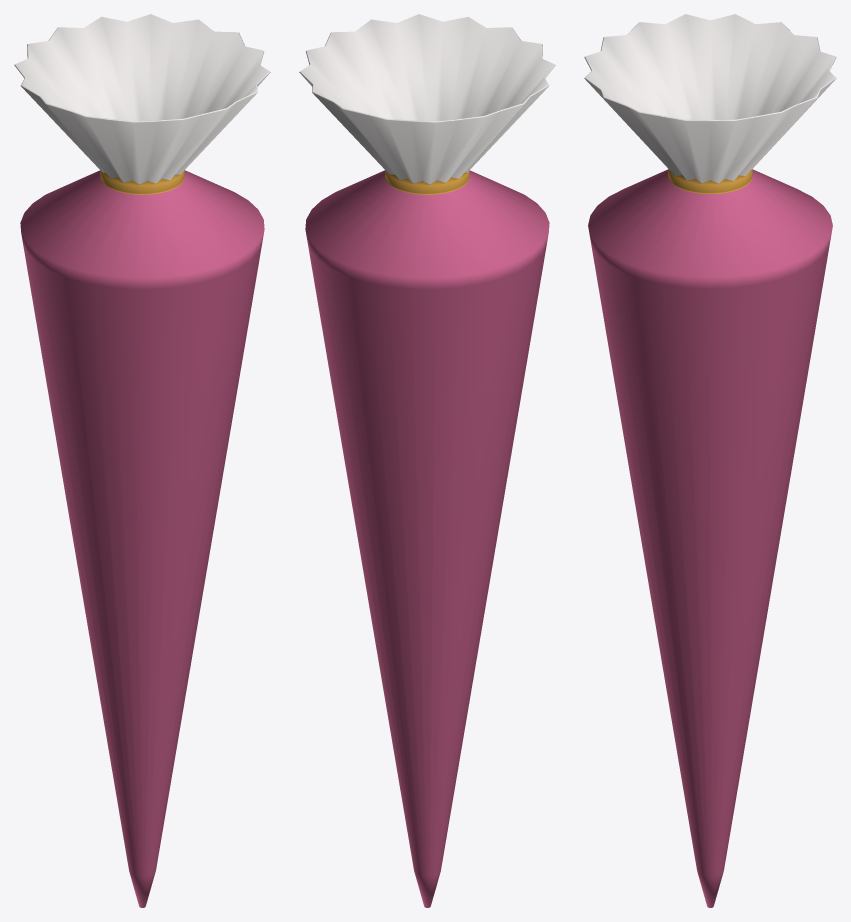
File: piping bag strawberry.fbx
3 renders of one model, left to right at view 1: azimuth 30°, elevation 25°; view 2: azimuth 150°, elevation 25°; view 3: azimuth 270°, elevation 25°, orthographic.
Visible parts, largest first — view 1: Cylinder; view 2: Cylinder; view 3: Cylinder.
Part boxes in pixels (box(x1,y1,x2,y2)): Cylinder: box(14, 14, 270, 907); Cylinder: box(299, 14, 555, 907); Cylinder: box(584, 14, 836, 907).
Bounding box in the file's own units: 114 × 417 × 114.
1 material, 1 textured.
